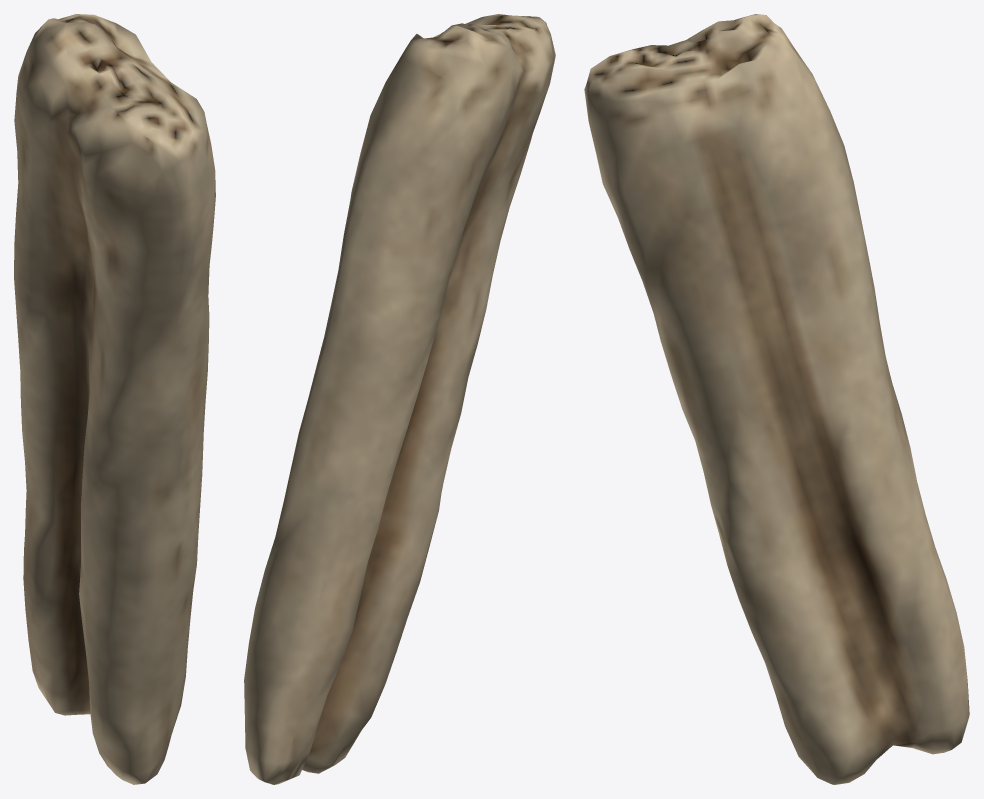
File: Mandibular_Molar4.glb
The picture shows the model from 3 angles, left to right: view 1: azimuth 30°, elevation 25°; view 2: azimuth 150°, elevation 25°; view 3: azimuth 270°, elevation 25°; orthographic projection. The views are drawn at different scales.
Parts seen in each view (by area): view 1: Group32726_Mesh.052; view 2: Group32726_Mesh.052; view 3: Group32726_Mesh.052.
Boxes of the visible parts, x1,y1,x2,y2 form: Group32726_Mesh.052: (14,14,215,784); Group32726_Mesh.052: (244,14,555,784); Group32726_Mesh.052: (584,14,969,784).
Size of the model in its own units: 0.023 by 0.0912 by 0.0444.
1 material, 1 textured.
